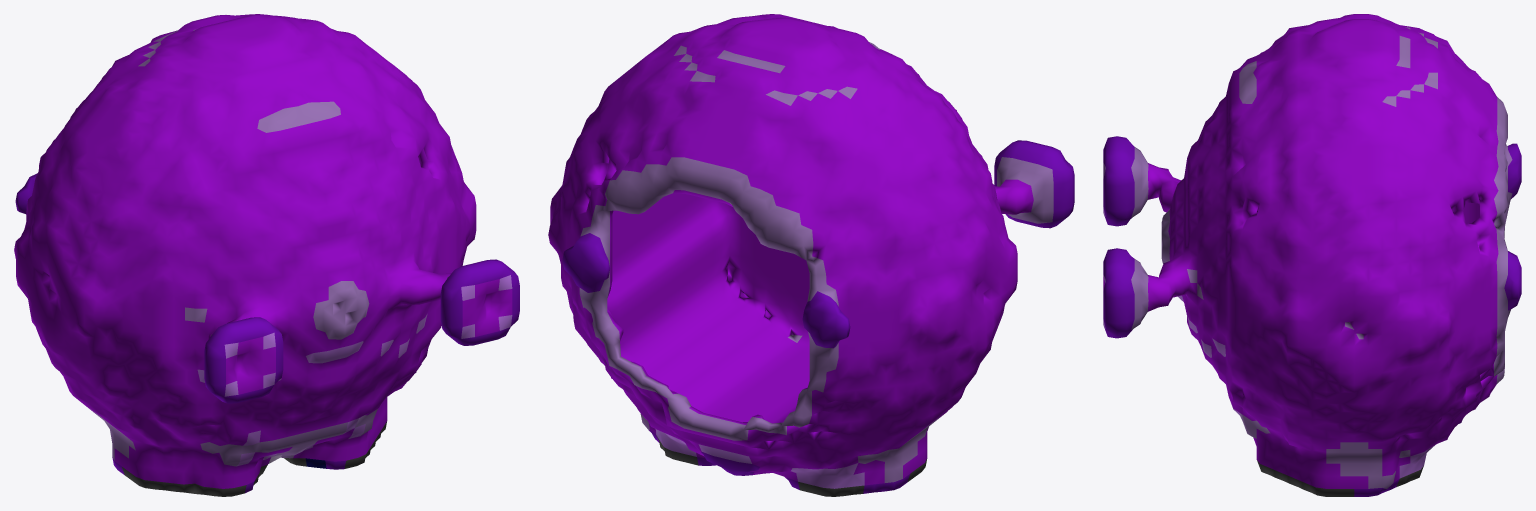
3 views of the same model, side by side, from view 1: azimuth 30°, elevation 25°; view 2: azimuth 150°, elevation 25°; view 3: azimuth 270°, elevation 25° (orthographic). The views are drawn at different scales.
Size of the model in its own units: 1.6 by 1.6 by 1.5.
